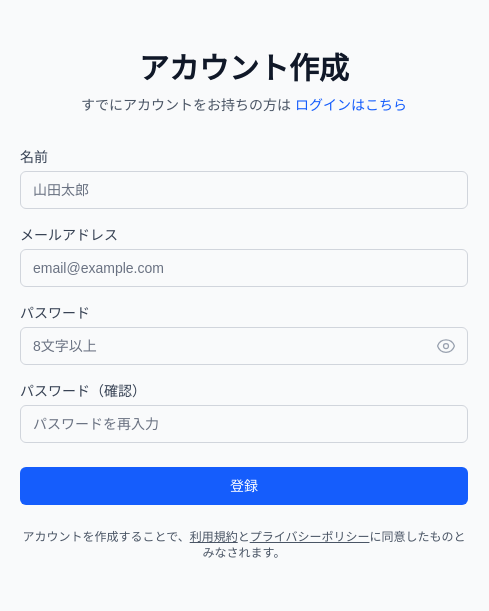
RegisterPage › should show error when passwords do not match
The width and height of the screenshot is (489, 611).
Type "password123" into the password field labelled "パスワード" at (244, 346), box [20,327,468,365]
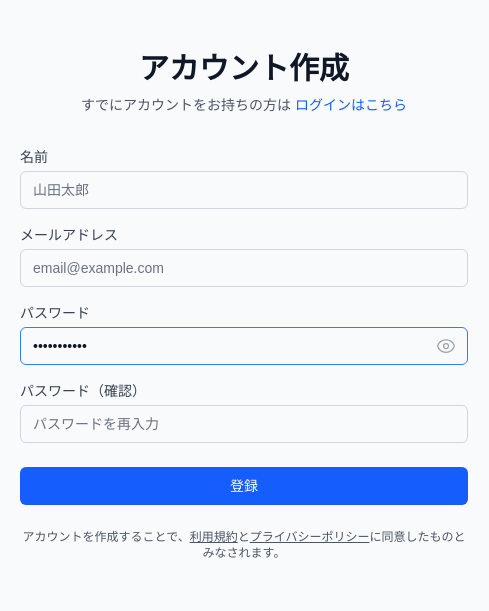
Type "different123" into the password field labelled "パスワード（確認）" at (244, 424), box [20,405,468,443]
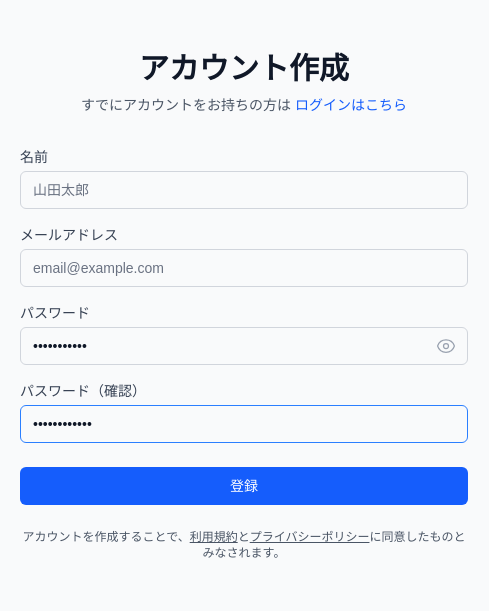
Click the button "登録" at (244, 486), box [20,467,468,505]
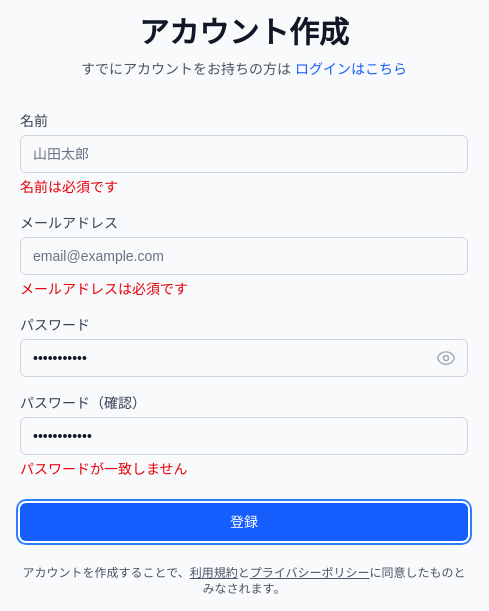
Expected: the text "パスワードが一致しません" is shown, [20,461,188,477]
